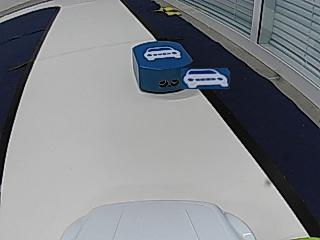safety: (143, 46, 182, 60)
